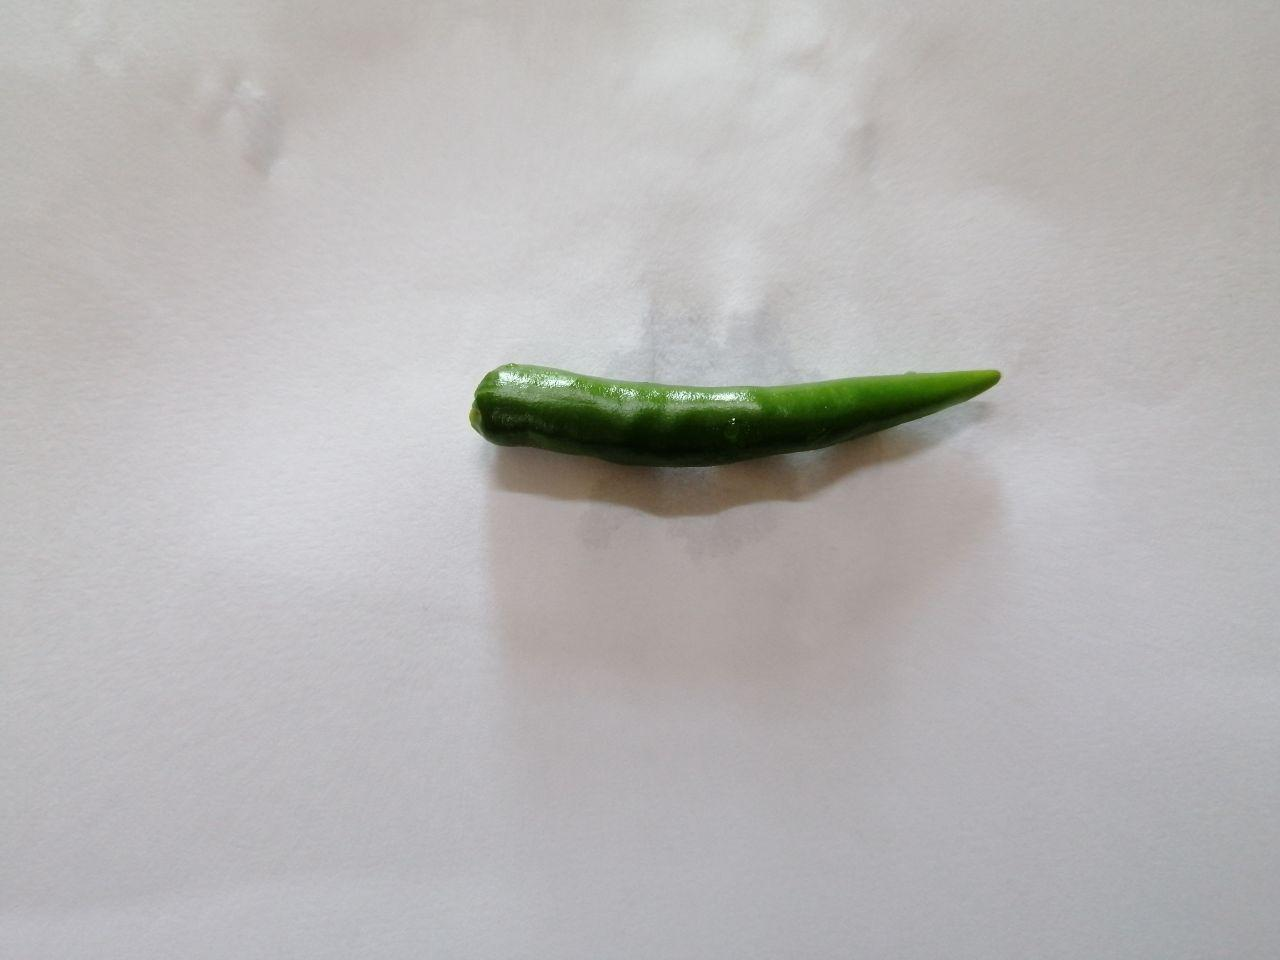lada hijau: (428, 317, 1050, 509)
